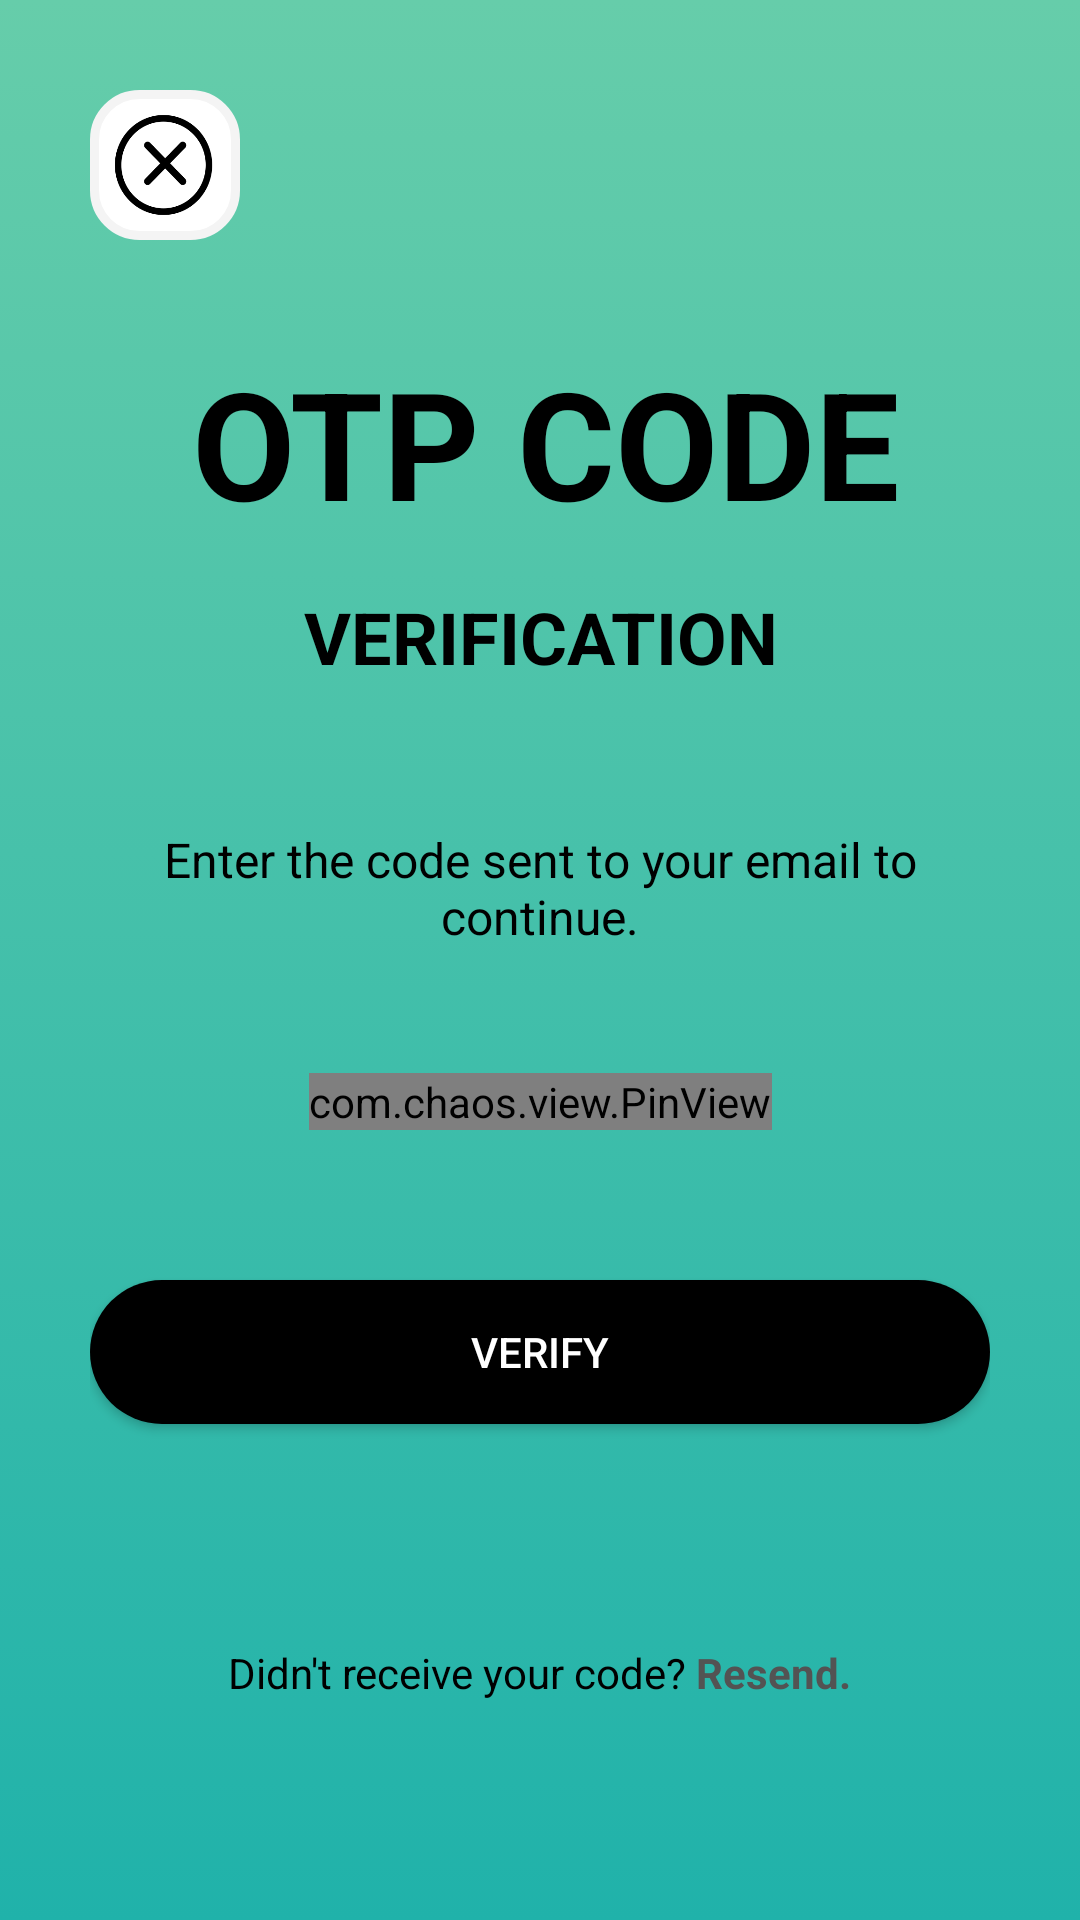

Named icons in this screenshot (1080px x 1920px) and their centers, (x=x, y=y):
general close: (x=165, y=165)
